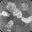people: (12, 8, 22, 18), (6, 2, 16, 12), (21, 16, 32, 24), (0, 10, 11, 17), (7, 20, 14, 28)
